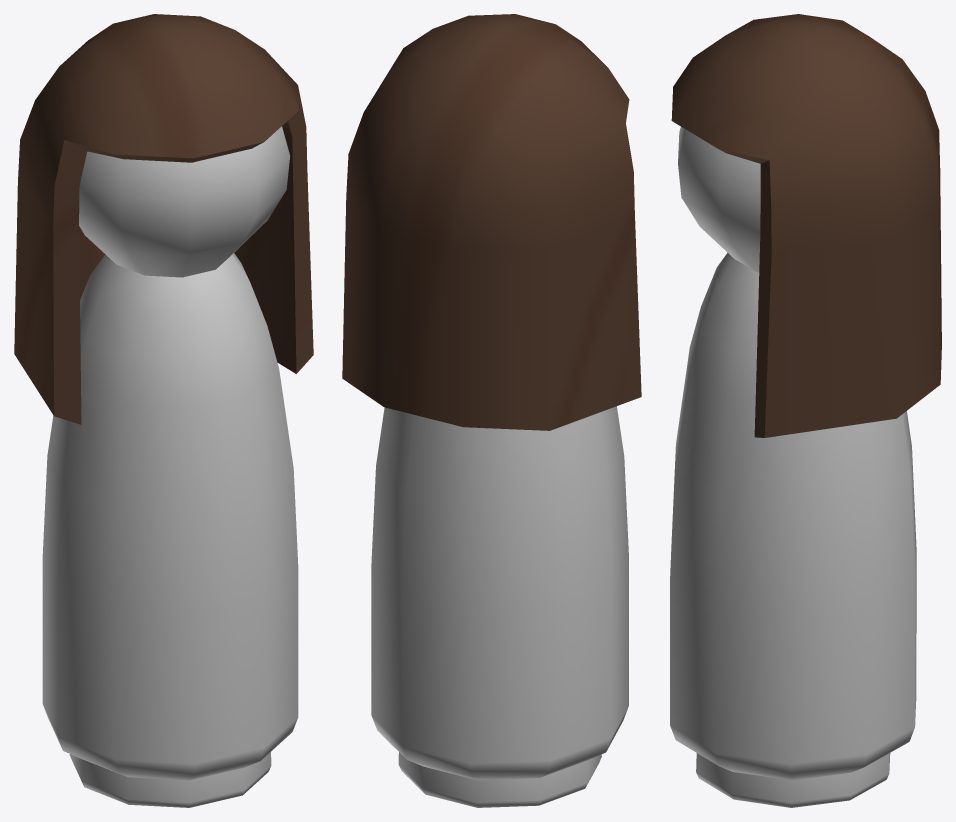
Rendered from Peg_Dress_Long_BrownHair.fbx.
3 views of the same model, side by side, from view 1: azimuth 30°, elevation 25°; view 2: azimuth 150°, elevation 25°; view 3: azimuth 270°, elevation 25° (orthographic).
Parts seen in each view (by area): view 1: Peg_Dress_Long_BrownHair; view 2: Peg_Dress_Long_BrownHair; view 3: Peg_Dress_Long_BrownHair.
Boxes of the visible parts, box(x1,y1,x2,y2) form: Peg_Dress_Long_BrownHair: box(14, 14, 313, 807); Peg_Dress_Long_BrownHair: box(342, 14, 641, 807); Peg_Dress_Long_BrownHair: box(670, 14, 941, 807).
Size of the model in its own units: 2.13 by 5.86 by 1.94.
